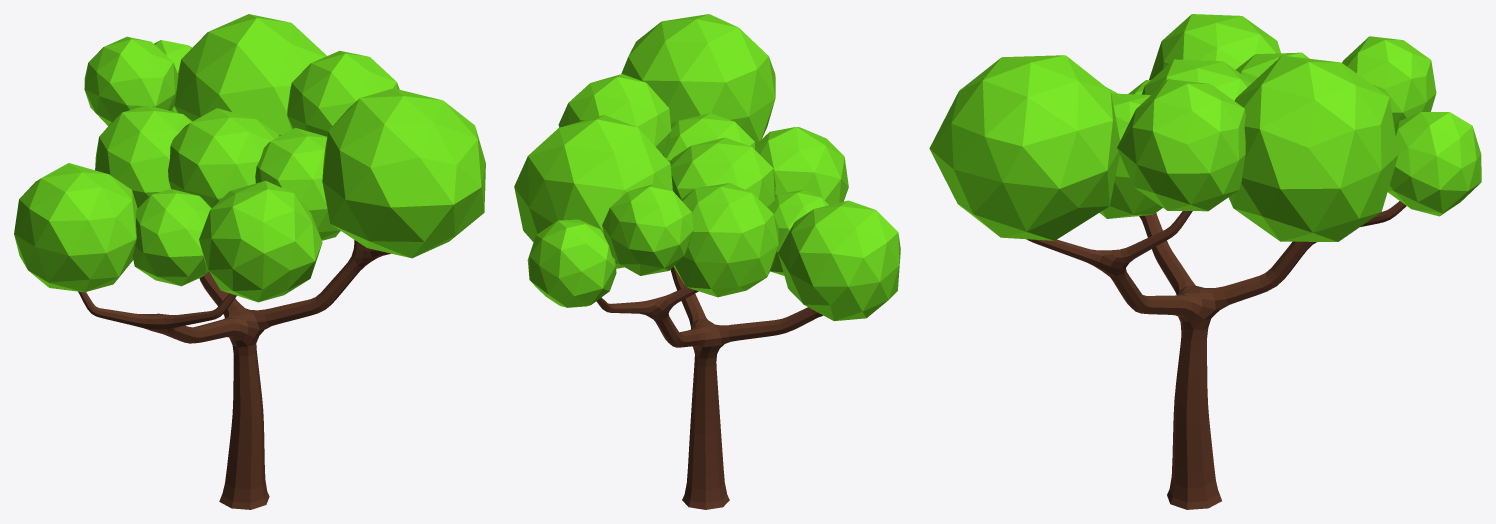
File: tree.fbx
The picture shows the model from 3 angles, left to right: view 1: azimuth 30°, elevation 25°; view 2: azimuth 150°, elevation 25°; view 3: azimuth 270°, elevation 25°; orthographic projection. The views are drawn at different scales.
Visible parts, largest first — view 1: Plane.002; view 2: Plane.002; view 3: Plane.002.
Boxes of the visible parts, x1,y1,x2,y2 form: Plane.002: [14, 14, 485, 509]; Plane.002: [514, 14, 900, 509]; Plane.002: [929, 14, 1481, 509].
Bounding box in the file's own units: 854 × 983 × 1018.
